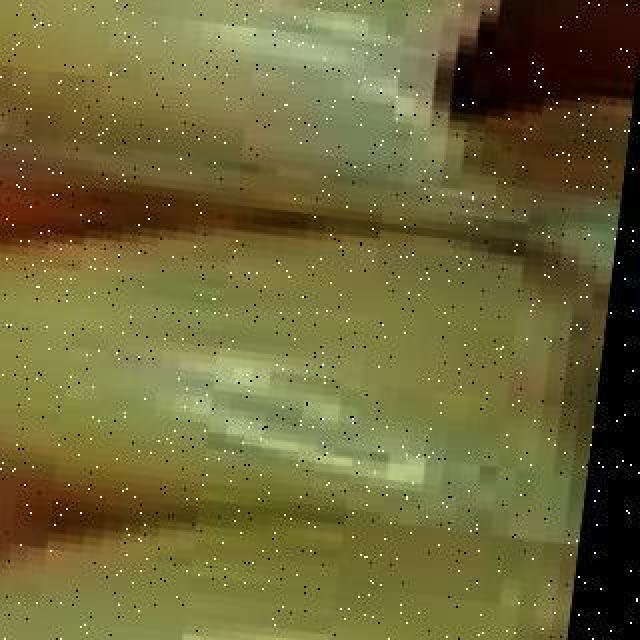cavities: (252, 0, 640, 202)
